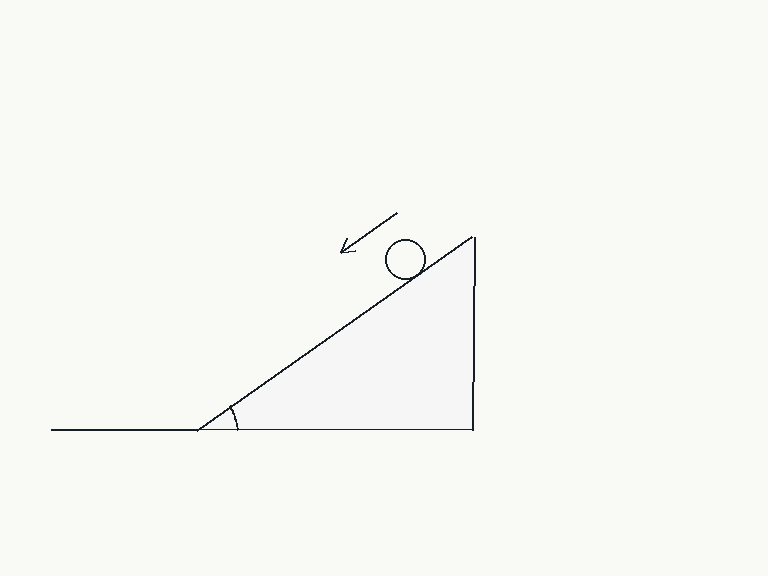ball: (383, 237, 427, 281)
ramp: (195, 234, 474, 431)
